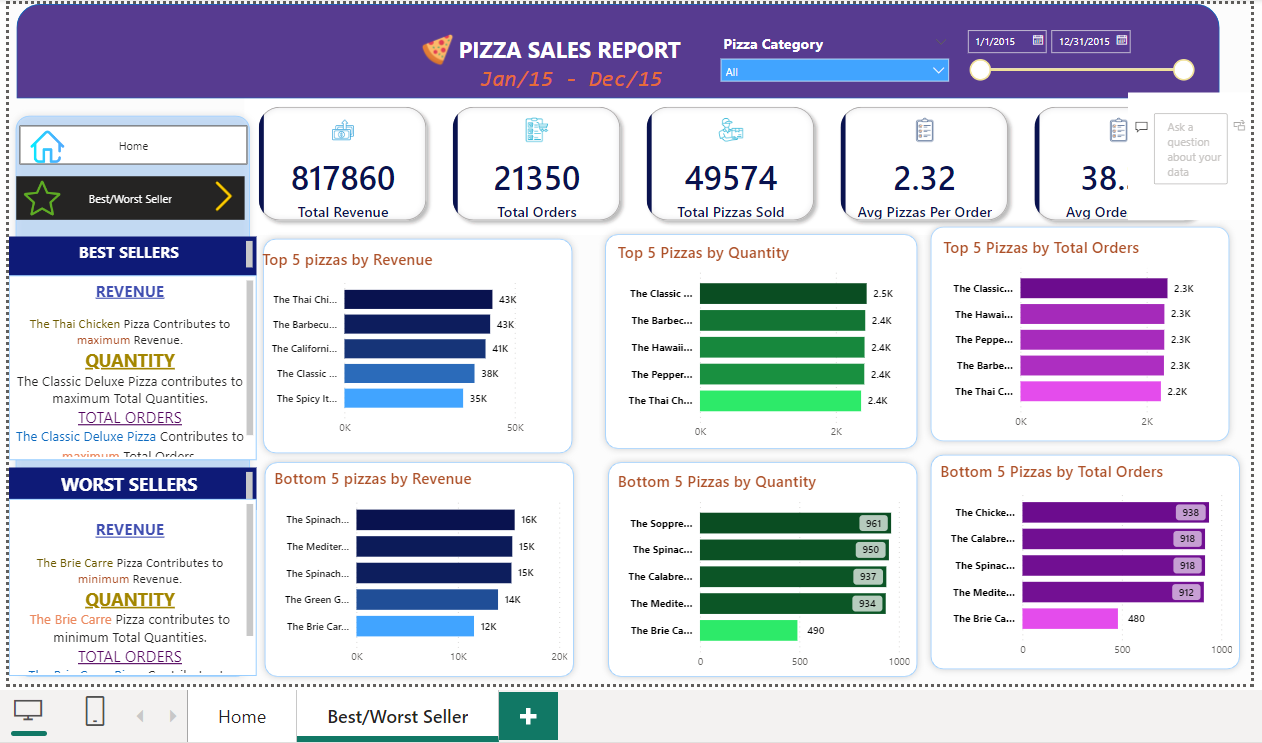

What the dashboard file says about the page in this screenshot:
{"tool":"powerbi","page":{"name":"Best/Worst Seller","canvas":[1500,820],"ordinal":1},"visuals":[{"type":"cardVisual","fields":{"Data":["public pizzasale.Total Revenue","public pizzasale.Total Orders","public pizzasale.Total Pizzas Sold","public pizzasale.Avg Pizzas Per Order","public pizzasale.Avg Order Value"]},"box":[284.2,106.8,1176.6,172],"z":0},{"type":"shape","box":[9.1,0,1451.7,114],"z":1000},{"type":"textbox","box":[494.4,31.5,364.8,48.1],"z":2000},{"type":"textbox","box":[498.1,68.5,361.1,88.9],"z":3000},{"type":"image","box":[455.6,31.5,122.2,48.1],"z":4000},{"type":"shape","box":[0,126.7,298.7,693.3],"z":5000},{"type":"textbox","box":[0,280.6,298.7,47.1],"z":6000},{"type":"shape","box":[298.7,275.1,389.2,275.1],"z":7000},{"type":"textbox","box":[0,327.6,298.7,222.6],"z":8000},{"type":"textbox","box":[0,559.3,298.7,50.7],"z":9000},{"type":"textbox","box":[0,597.4,298.7,213.6],"z":10000},{"type":"slicer","fields":{"Values":["public pizzasale.pizza_category"]},"box":[849,30.8,295.1,68.8],"z":11000},{"type":"slicer","fields":{"Values":["public pizzasale.order_date"]},"box":[1144,21.7,295.1,85.1],"z":12000},{"type":"shape","box":[711.4,269.7,392.8,275.1],"z":13000},{"type":"shape","box":[1104.2,260.7,376.5,275.1],"z":14000},{"type":"shape","box":[300.5,544.9,389.2,275.1],"z":15000},{"type":"shape","box":[715,544.9,389.2,275.1],"z":16000},{"type":"shape","box":[1104.2,535.8,389.2,275.1],"z":17000},{"type":"barChart","title":"Top 5 pizzas by Revenue","fields":{"Category":["public pizzasale.pizza_name"],"Y":["public pizzasale.Total Revenue"]},"box":[300.5,295.1,365.7,233.5],"z":18000},{"type":"barChart","title":"Bottom 5 pizzas by Revenue","fields":{"Category":["public pizzasale.pizza_name"],"Y":["public pizzasale.Total Revenue"]},"box":[315,559.3,363.8,246.2],"z":19000},{"type":"barChart","title":"Top 5 Pizzas by Quantity","fields":{"Category":["public pizzasale.pizza_name"],"Y":["public pizzasale.Total Pizzas Sold"]},"box":[729.5,286,362,248],"z":20000},{"type":"barChart","title":"Bottom 5 Pizzas by Quantity","fields":{"Category":["public pizzasale.pizza_name"],"Y":["public pizzasale.Total Pizzas Sold"]},"box":[729.5,563,362,248],"z":21000},{"type":"barChart","title":"Top 5 Pizzas by Total Orders","fields":{"Category":["public pizzasale.pizza_name"],"Y":["public pizzasale.Total Orders"]},"box":[1122.3,280.6,338.5,240.8],"z":22000},{"type":"barChart","title":"Bottom 5 Pizzas by Total Orders","fields":{"Category":["public pizzasale.pizza_name"],"Y":["public pizzasale.Total Orders"]},"box":[1118.7,550.3,362,246.2],"z":23000},{"type":"qnaVisual","box":[1350,106.8,150,153.9],"z":24000},{"type":"pageNavigator","box":[9.1,208.2,275.1,52.5],"z":25000},{"type":"pageNavigator","box":[12.7,146.6,275.1,47.1],"z":26000},{"type":"image","box":[12.7,200.9,54.3,67],"z":26001},{"type":"image","box":[233.5,208.2,50.7,47.1],"z":26002},{"type":"image","box":[12.7,146.6,67,50.7],"z":26003}]}

Visuals, with their boxes on the page's 1500x820 design canvas (x1, y1, x2, y2). These are canvas units, not pixel positions in the 1262x743 screenshot, which may show the page scaled, cropped or inside an application window:
cardVisual - public pizzasale.Total Revenue x public pizzasale.Total Orders: bbox=[284, 107, 1461, 279]
shape: bbox=[9, 0, 1461, 114]
textbox: bbox=[494, 32, 859, 80]
textbox: bbox=[498, 68, 859, 157]
image: bbox=[456, 32, 578, 80]
shape: bbox=[0, 127, 299, 820]
textbox: bbox=[0, 281, 299, 328]
shape: bbox=[299, 275, 688, 550]
textbox: bbox=[0, 328, 299, 550]
textbox: bbox=[0, 559, 299, 610]
textbox: bbox=[0, 597, 299, 811]
slicer - public pizzasale.pizza_category: bbox=[849, 31, 1144, 100]
slicer - public pizzasale.order_date: bbox=[1144, 22, 1439, 107]
shape: bbox=[711, 270, 1104, 545]
shape: bbox=[1104, 261, 1481, 536]
shape: bbox=[300, 545, 690, 820]
shape: bbox=[715, 545, 1104, 820]
shape: bbox=[1104, 536, 1493, 811]
"Top 5 pizzas by Revenue" barChart: bbox=[300, 295, 666, 529]
"Bottom 5 pizzas by Revenue" barChart: bbox=[315, 559, 679, 806]
"Top 5 Pizzas by Quantity" barChart: bbox=[730, 286, 1092, 534]
"Bottom 5 Pizzas by Quantity" barChart: bbox=[730, 563, 1092, 811]
"Top 5 Pizzas by Total Orders" barChart: bbox=[1122, 281, 1461, 521]
"Bottom 5 Pizzas by Total Orders" barChart: bbox=[1119, 550, 1481, 796]
qnaVisual: bbox=[1350, 107, 1500, 261]
pageNavigator: bbox=[9, 208, 284, 261]
pageNavigator: bbox=[13, 147, 288, 194]
image: bbox=[13, 201, 67, 268]
image: bbox=[234, 208, 284, 255]
image: bbox=[13, 147, 80, 197]
